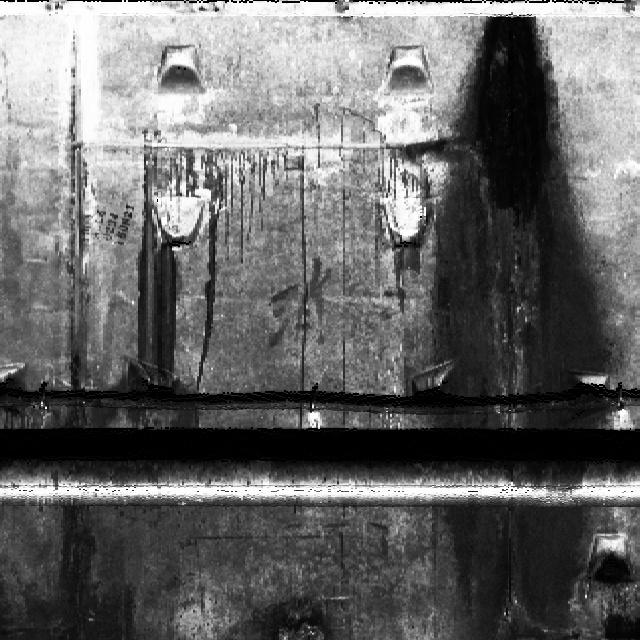leakage: (412, 7, 617, 639), (111, 137, 222, 428), (9, 491, 177, 639), (49, 31, 102, 428), (218, 593, 342, 639)
